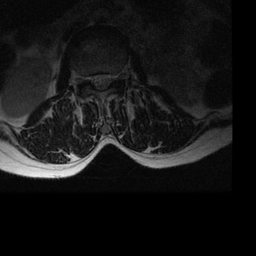CCS_normal: (98, 68, 105, 94)
LFS_stenosis: (112, 69, 118, 87)
LLS_normal: (105, 69, 111, 91)
RFS_stenosis: (85, 70, 91, 90)
RLS_normal: (91, 71, 98, 92)
